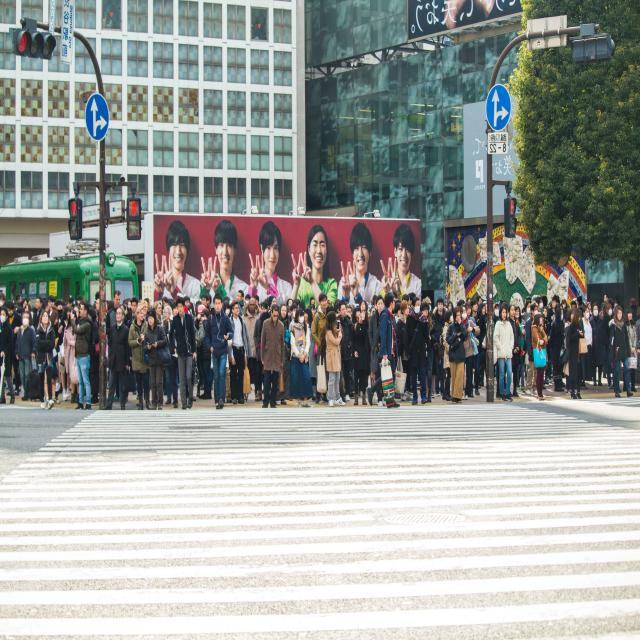adult: (366, 293, 401, 409), (152, 217, 201, 298), (198, 218, 250, 294), (288, 224, 335, 303), (246, 220, 288, 297), (338, 223, 380, 299), (169, 300, 198, 409), (205, 293, 232, 409), (104, 306, 131, 412), (380, 223, 420, 294), (72, 302, 98, 411), (406, 297, 431, 406), (143, 308, 168, 411), (228, 302, 252, 405), (261, 306, 285, 408), (288, 309, 310, 408), (609, 308, 633, 398), (446, 306, 468, 402), (128, 306, 148, 410), (493, 306, 514, 404), (324, 313, 345, 408), (36, 310, 56, 409), (243, 297, 261, 401), (16, 311, 36, 400), (312, 293, 328, 404), (461, 306, 480, 399), (568, 308, 587, 400), (369, 296, 384, 404), (352, 311, 369, 406), (530, 312, 548, 399), (0, 308, 15, 403), (550, 307, 566, 393), (433, 296, 446, 396), (472, 298, 486, 389), (507, 305, 521, 396), (591, 304, 605, 386), (625, 308, 638, 392), (581, 306, 593, 389)
